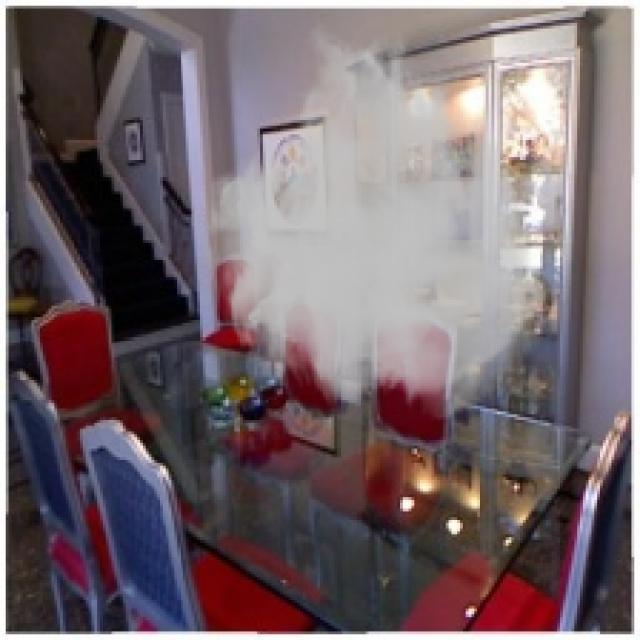Smoke: (203, 20, 546, 423)
